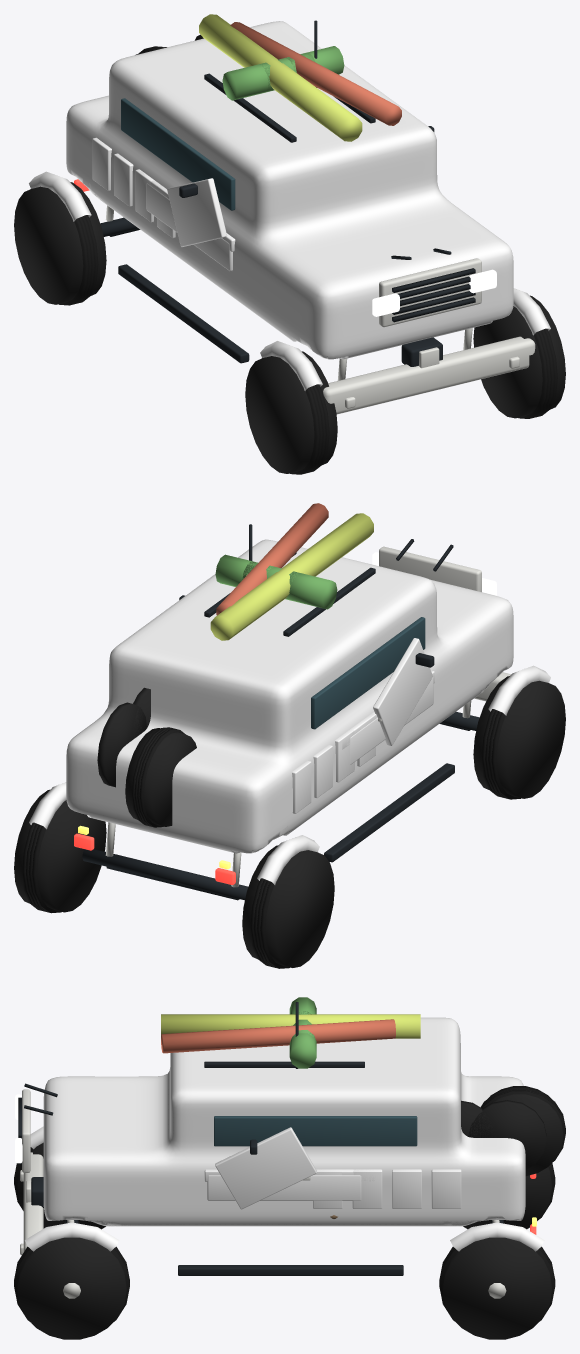
Rendered from wagon.glb.
3 views of the same model, one above another, from view 1: azimuth 30°, elevation 25°; view 2: azimuth 150°, elevation 25°; view 3: azimuth 270°, elevation 25° (orthographic). The views are drawn at different scales.
Visible parts, largest first — view 1: Body, LOD_Body, Wheel2_tire, Wheel0_tire, Det_bumper, Acc_kayak, Wheel1_tire, Glass_sideL, Acc_kayakb, Accent_chevron.001, Det_grille, Det_slider (+13 smaller); view 2: Body, LOD_Body, Wheel2_tire, Wheel0_tire, Wheel3_tire, Acc_kayak, Glass_sideL, Acc_spare_tire, Accent_chevron.001, Acc_kayakb, Det_axler, Acc_bike (+14 smaller); view 3: Body, LOD_Body, Wheel3_tire, Wheel1_tire, Glass_sideR, Accent_chevron, Acc_kayakb, Acc_kayak, Acc_bike, Accent_thick, Det_slider.001, Acc_spare_tire (+16 smaller).
Part boxes in pixels (x1,y1,x2,y2): Body: (66, 21, 513, 359); LOD_Body: (66, 21, 513, 358); Wheel2_tire: (14, 182, 106, 304); Wheel0_tire: (245, 351, 337, 473); Det_bumper: (323, 336, 535, 414); Acc_kayak: (199, 14, 362, 141); Wheel1_tire: (473, 295, 565, 418); Glass_sideL: (121, 98, 235, 210); Acc_kayakb: (230, 22, 401, 125); Accent_chevron.001: (167, 178, 226, 246); Det_grille: (379, 258, 481, 327); Det_slider: (118, 264, 249, 363); Body: (66, 540, 513, 853); LOD_Body: (66, 539, 513, 853); Wheel2_tire: (242, 845, 334, 967); Wheel0_tire: (473, 676, 565, 798); Wheel3_tire: (14, 789, 106, 912); Acc_kayak: (210, 513, 373, 640); Glass_sideL: (311, 617, 425, 729); Acc_spare_tire: (125, 728, 196, 826); Accent_chevron.001: (373, 638, 432, 745); Acc_kayakb: (216, 503, 328, 615); Det_axler: (82, 849, 248, 900); Acc_bike: (97, 702, 146, 787); Body: (43, 1017, 525, 1226); LOD_Body: (43, 1017, 525, 1226); Wheel3_tire: (442, 1237, 551, 1339); Wheel1_tire: (17, 1237, 126, 1339); Glass_sideR: (214, 1116, 417, 1146); Accent_chevron: (215, 1127, 316, 1209); Acc_kayakb: (161, 1019, 395, 1053); Acc_kayak: (161, 1014, 420, 1038); Acc_bike: (468, 1100, 546, 1169); Accent_thick: (207, 1175, 361, 1200); Det_slider.001: (178, 1265, 403, 1275); Acc_spare_tire: (488, 1086, 563, 1175).
Size of the model in its own units: 2.25 by 2.64 by 4.46.
